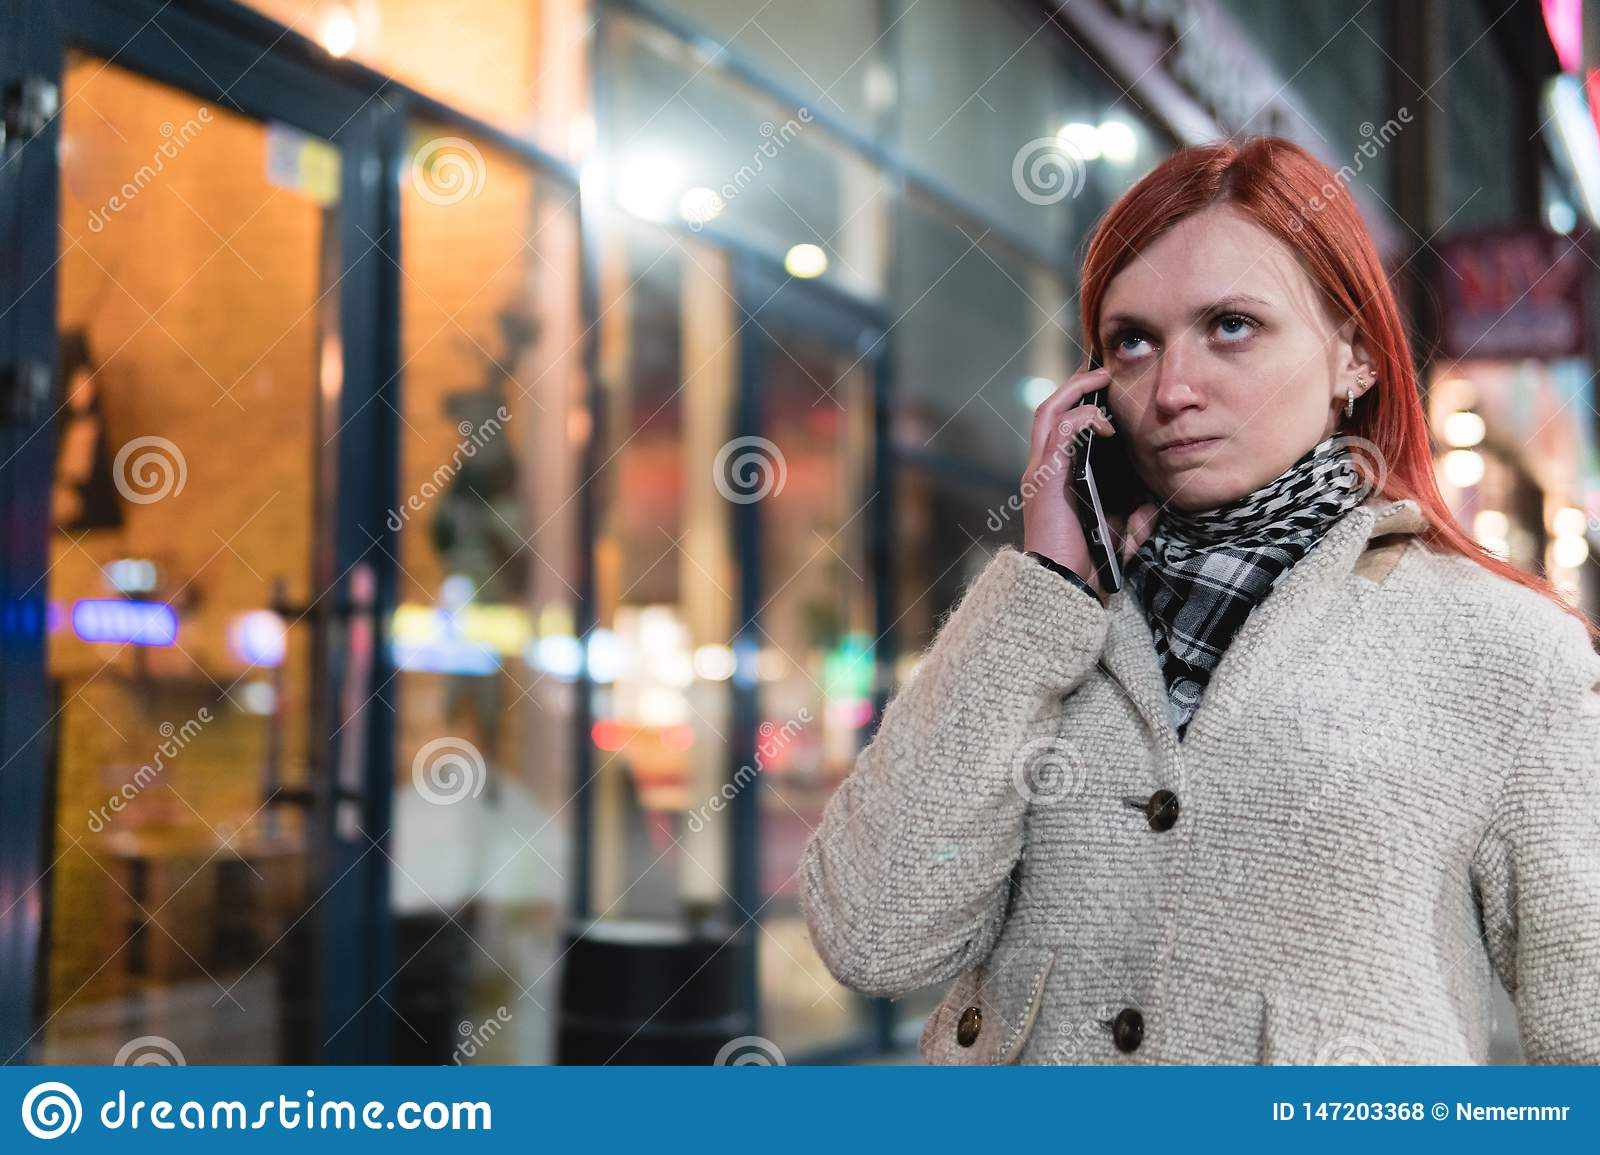phone: (1067, 337, 1135, 592)
talk: (1014, 299, 1299, 591)
